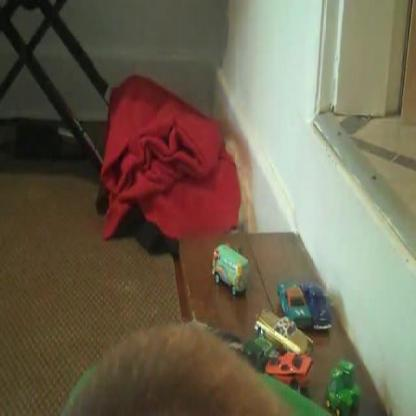other: (97, 74, 248, 231), (258, 300, 317, 383)
